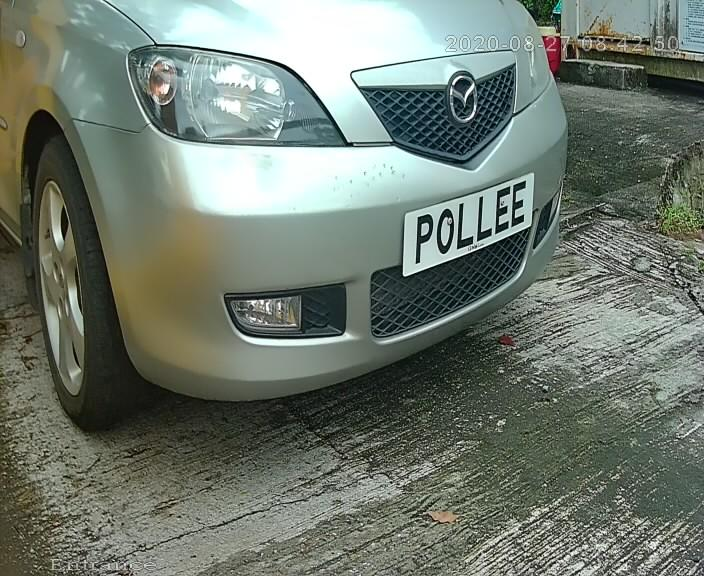Car: (16, 1, 610, 427)
License Plate: (391, 150, 550, 289)
